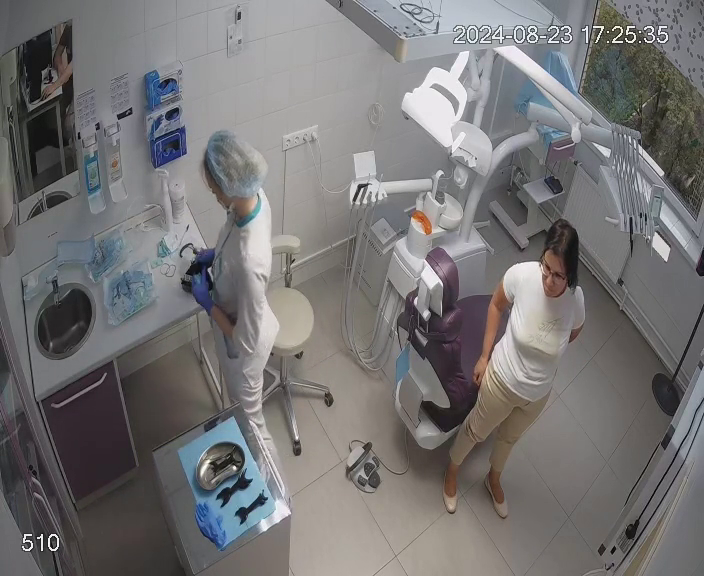Empty: (385, 246, 526, 456)
